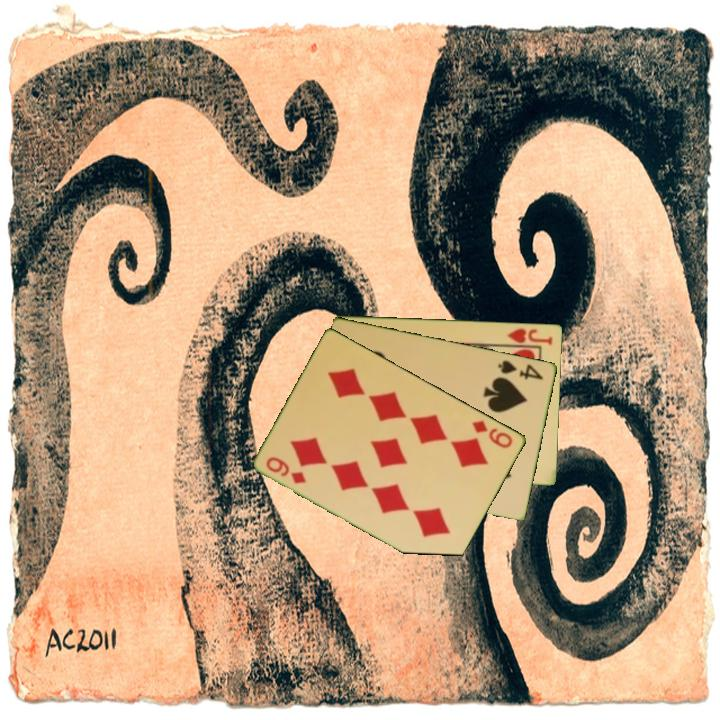4s: (495, 356, 547, 382)
9d: (469, 416, 516, 451), (263, 453, 309, 487)
Jh: (499, 325, 556, 349)
